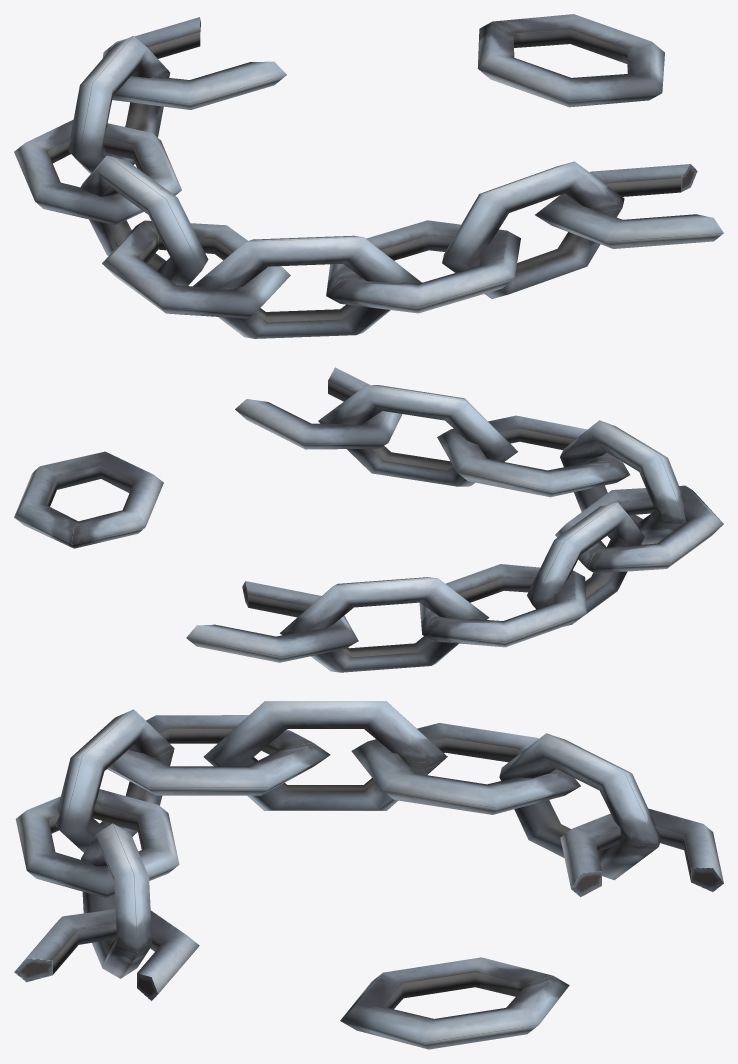
The model's file is deco_chains1.fbx.
3 renders of one model, top to bottom at view 1: azimuth 30°, elevation 25°; view 2: azimuth 150°, elevation 25°; view 3: azimuth 270°, elevation 25°, orthographic. The views are drawn at different scales.
Visible parts, largest first — view 1: Torus024; view 2: Torus024; view 3: Torus024.
Part boxes in pixels (bbox=[...]): Torus024: bbox=[14, 14, 723, 338]; Torus024: bbox=[14, 367, 723, 672]; Torus024: bbox=[14, 701, 723, 1049].
Size of the model in its own units: 27.47 by 4.16 by 25.76.
